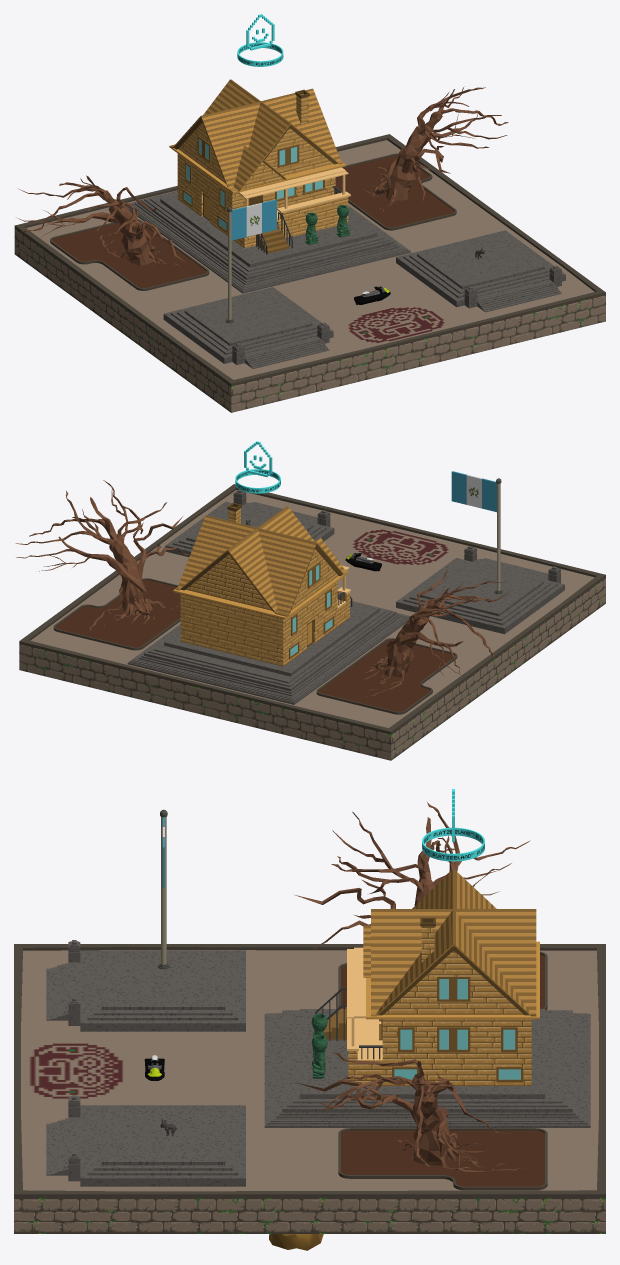
3 views of the same model, one above another, from view 1: azimuth 30°, elevation 25°; view 2: azimuth 150°, elevation 25°; view 3: azimuth 270°, elevation 25° (orthographic). The views are drawn at different scales.
Parts seen in each view (by area): view 1: Cube.011, Cube.508, OBJRANDOM_GUATEMALAN_FLAG, TYPE_PREMIUM; view 2: Cube.011, Cube.508, OBJRANDOM_GUATEMALAN_FLAG, TYPE_PREMIUM; view 3: Cube.011, Cube.508, TYPE_PREMIUM, OBJRANDOM_GUATEMALAN_FLAG, UNDERGROUND_T_REX_BONES.
Boxes of the visible parts, x1=… form: Cube.011: x1=14, y1=86, x2=605, y2=412; Cube.508: x1=169, y1=79, x2=350, y2=254; OBJRANDOM_GUATEMALAN_FLAG: x1=225, y1=199, x2=276, y2=323; TYPE_PREMIUM: x1=237, y1=14, x2=283, y2=66; Cube.011: x1=15, y1=480, x2=605, y2=760; Cube.508: x1=173, y1=503, x2=352, y2=666; OBJRANDOM_GUATEMALAN_FLAG: x1=451, y1=471, x2=502, y2=594; TYPE_PREMIUM: x1=235, y1=441, x2=280, y2=493; Cube.011: x1=14, y1=802, x2=605, y2=1233; Cube.508: x1=315, y1=869, x2=539, y2=1085; TYPE_PREMIUM: x1=422, y1=789, x2=484, y2=861; OBJRANDOM_GUATEMALAN_FLAG: x1=157, y1=809, x2=169, y2=969; UNDERGROUND_T_REX_BONES: x1=269, y1=1234, x2=323, y2=1250.
Bounding box in the file's own units: 5099 × 2580 × 4000.
36 materials, 7 textured.
